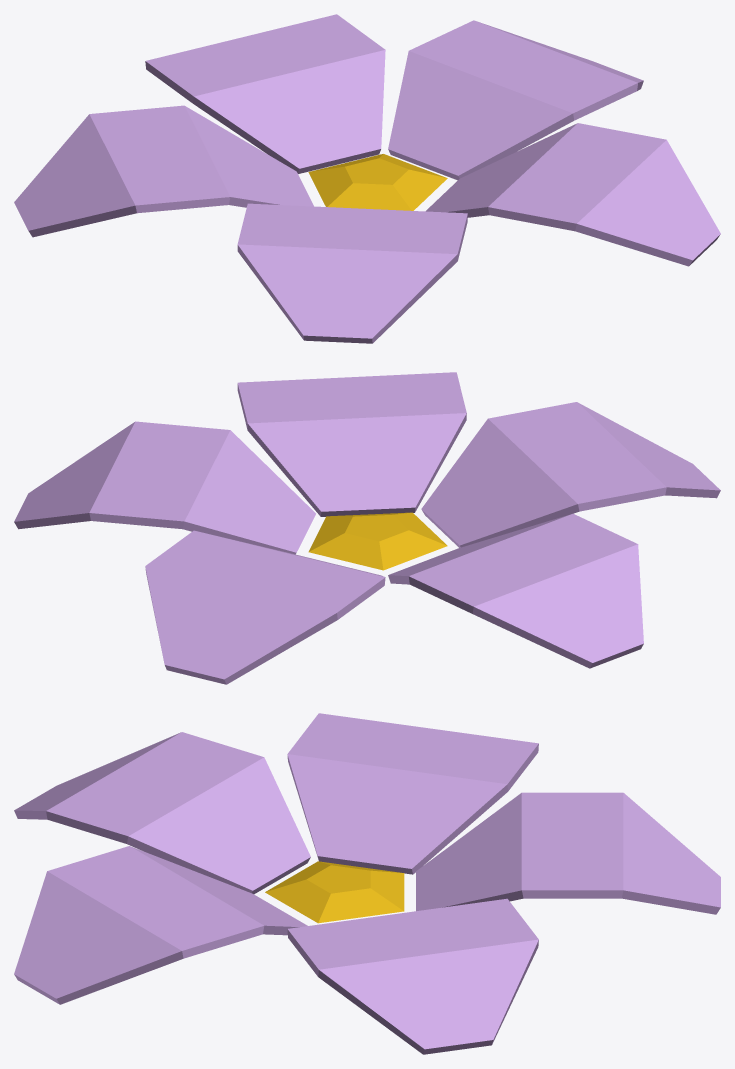
File: Flower.fbx
3 renders of one model, top to bottom at view 1: azimuth 30°, elevation 25°; view 2: azimuth 150°, elevation 25°; view 3: azimuth 270°, elevation 25°, orthographic. The views are drawn at different scales.
Visible parts, largest first — view 1: Flower; view 2: Flower; view 3: Flower.
Boxes of the visible parts, bbox=[...] form: Flower: bbox=[14, 14, 720, 343]; Flower: bbox=[14, 372, 720, 684]; Flower: bbox=[14, 713, 720, 1054].
Bounding box in the file's own units: 80.21 × 7.05 × 76.29.
